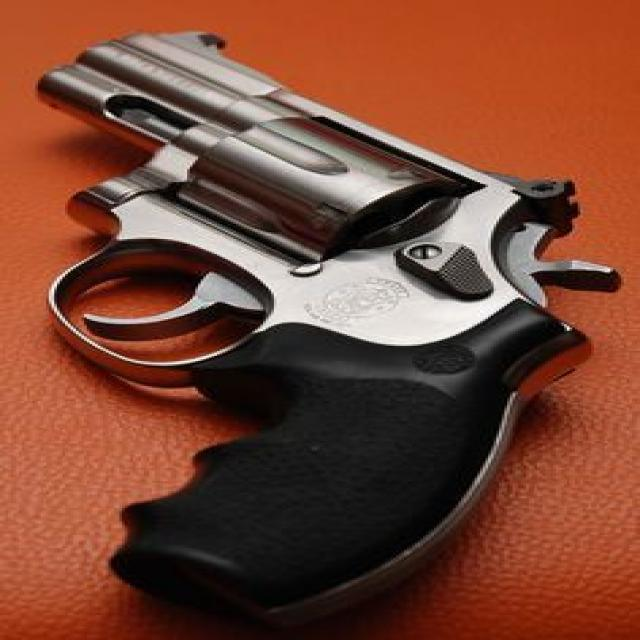revolver: (0, 6, 625, 628)
